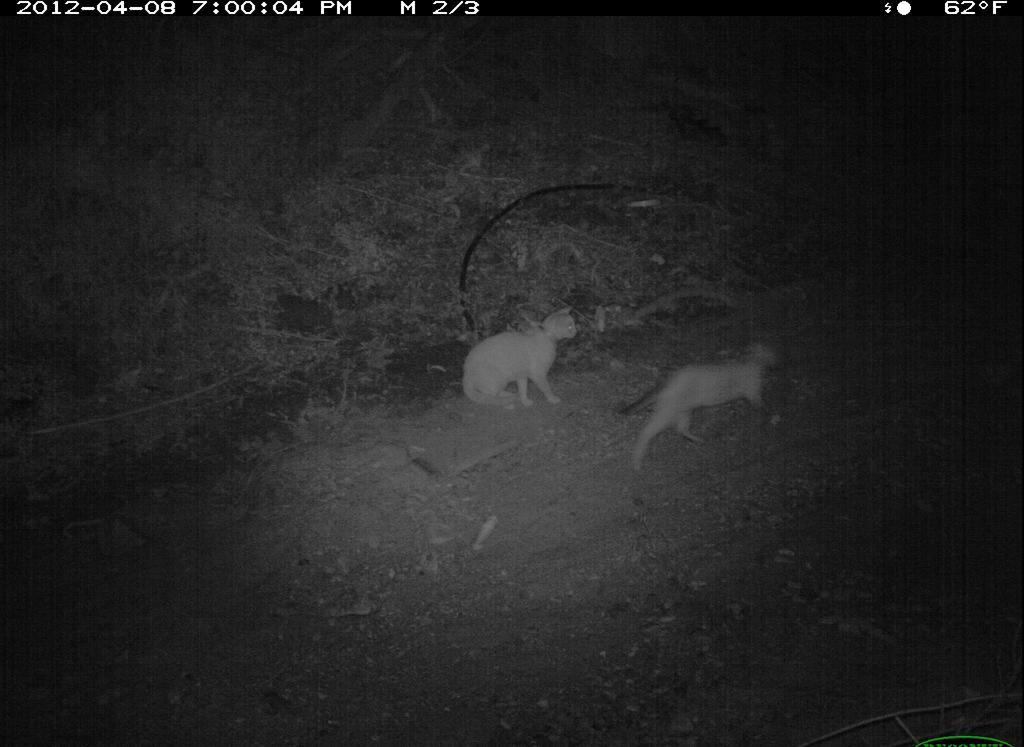cat: (620, 336, 784, 474), (459, 301, 582, 413)
